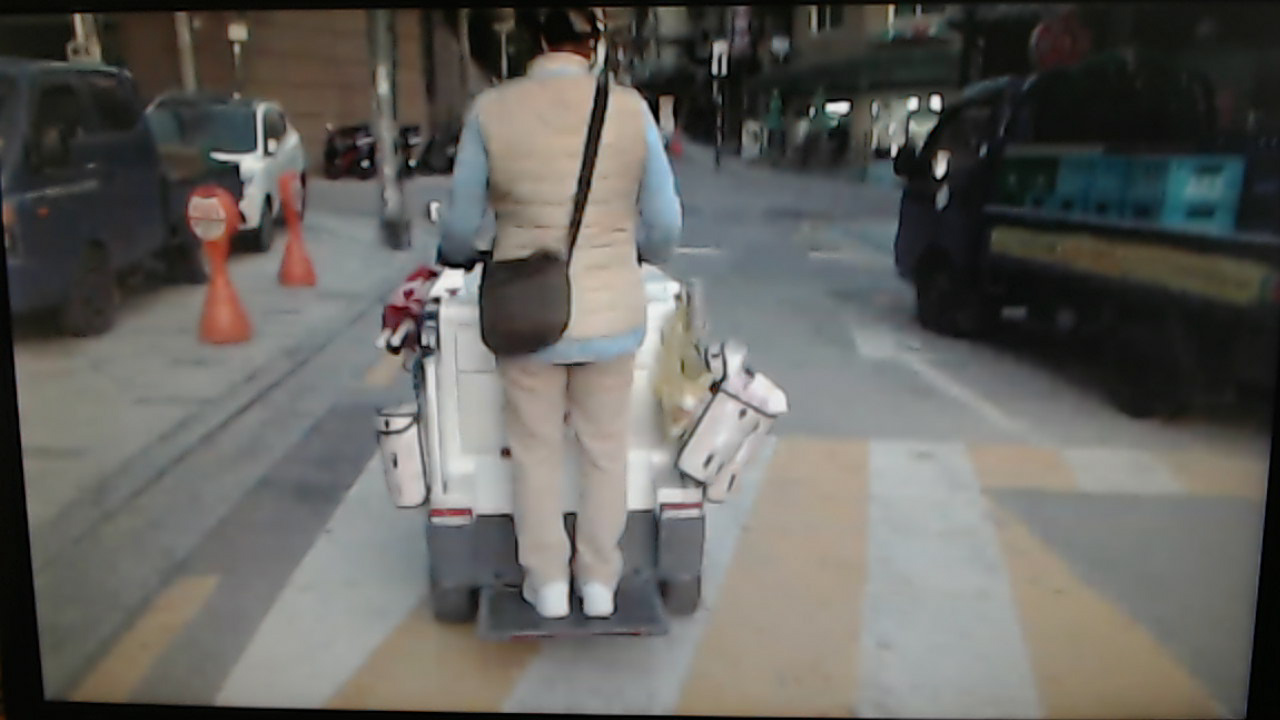Yakurut: (426, 9, 701, 630)
